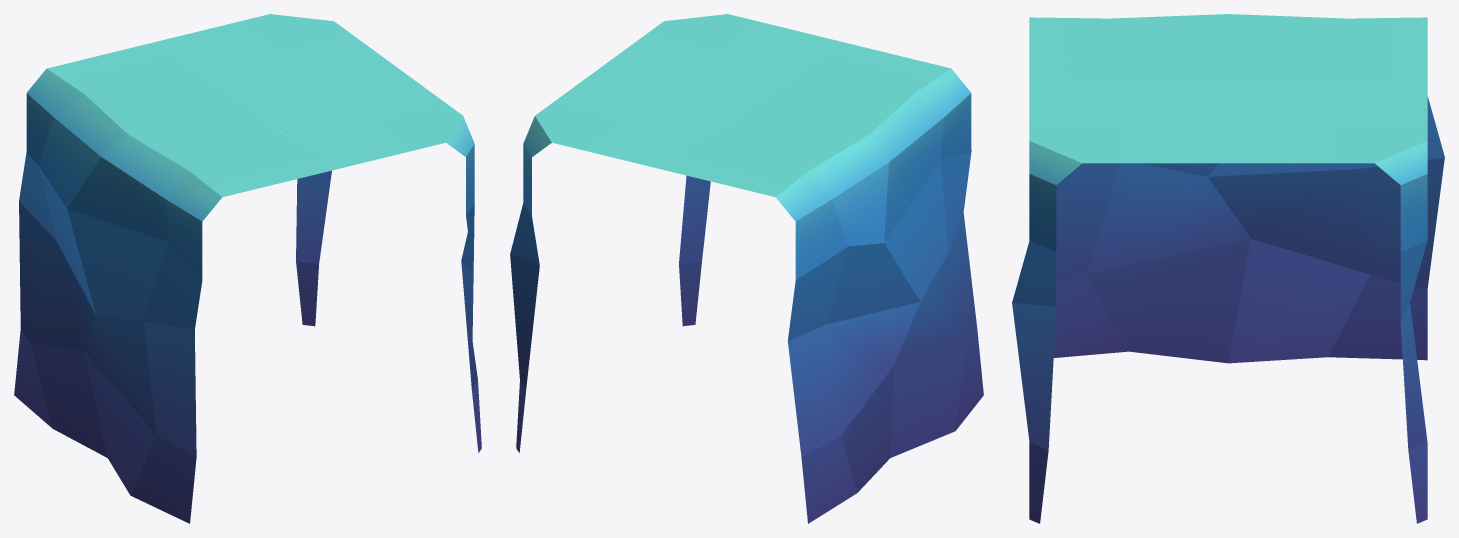
3 renders of one model, left to right at view 1: azimuth 30°, elevation 25°; view 2: azimuth 150°, elevation 25°; view 3: azimuth 270°, elevation 25°, orthographic. The views are drawn at different scales.
Parts seen in each view (by area): view 1: Side.004, SideSmallRight.003, TopInnerCorner.009, TopInnerCorner.008, TopSide.004, TopSide.005, SideSmallLeft.001, InnerCorner.010, InnerCorner.009; view 2: Side.004, SideSmallLeft.001, TopInnerCorner.008, TopInnerCorner.009, TopSide.005, TopSide.004, SideSmallRight.003, InnerCorner.010, InnerCorner.009; view 3: Side.004, TopInnerCorner.009, TopInnerCorner.008, TopSide.005, TopSide.004, SideSmallLeft.001, InnerCorner.009, SideSmallRight.003, InnerCorner.010.
Part boxes in pixels (x1,y1,x2,y2): Side.004: (31,94,188,495); SideSmallRight.003: (130,171,222,523); TopInnerCorner.009: (158,14,398,105); TopInnerCorner.008: (247,68,462,169); TopSide.004: (128,105,333,197); TopSide.005: (47,41,245,134); SideSmallLeft.001: (14,68,83,428); InnerCorner.010: (296,170,331,326); InnerCorner.009: (446,116,481,453); Side.004: (809,94,966,492); SideSmallLeft.001: (775,171,857,523); TopInnerCorner.008: (600,14,839,105); TopInnerCorner.009: (535,68,751,169); TopSide.005: (664,105,869,197); TopSide.004: (752,41,950,134); SideSmallRight.003: (914,68,983,430); InnerCorner.010: (510,116,551,452); InnerCorner.009: (679,143,710,326); Side.004: (1086,163,1370,363); TopInnerCorner.009: (1228,79,1427,163); TopInnerCorner.008: (1029,79,1228,163); TopSide.005: (1228,14,1427,78); TopSide.004: (1029,14,1228,78); SideSmallLeft.001: (1328,96,1444,360); InnerCorner.009: (1012,141,1081,523); SideSmallRight.003: (1053,163,1128,357); InnerCorner.010: (1375,141,1427,523).
Bounding box in the file's own units: 641 × 600 × 653.
